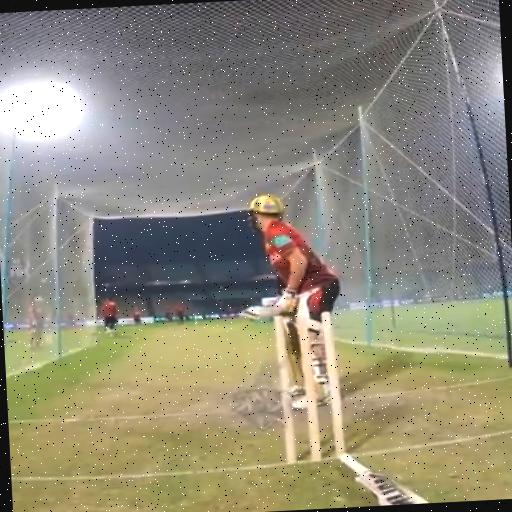Cricket bat: (241, 304, 280, 319)
